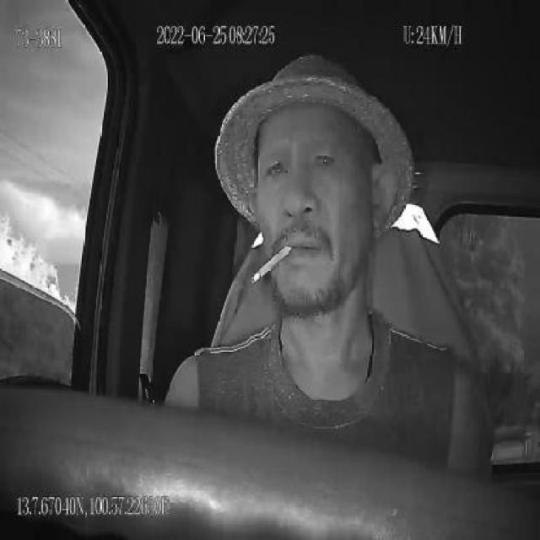smoking: (252, 243, 292, 288)
